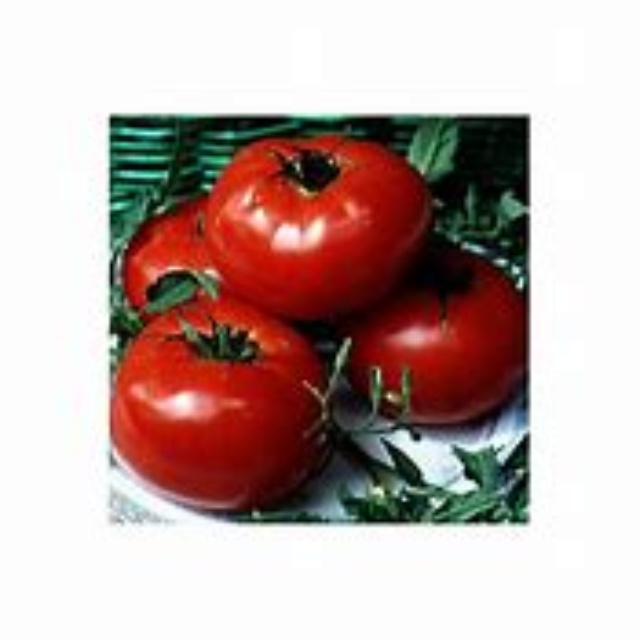tomato: (125, 308, 320, 508), (213, 139, 430, 312), (357, 253, 527, 422)
